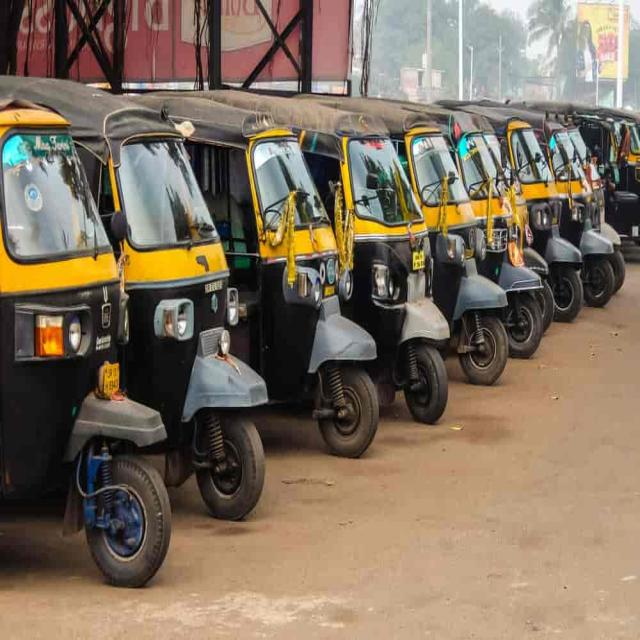autorickshaw: (1, 79, 268, 519), (136, 94, 378, 457), (0, 101, 170, 587), (221, 94, 449, 423), (339, 97, 508, 383), (411, 103, 542, 358), (469, 101, 582, 321), (510, 103, 614, 306)
